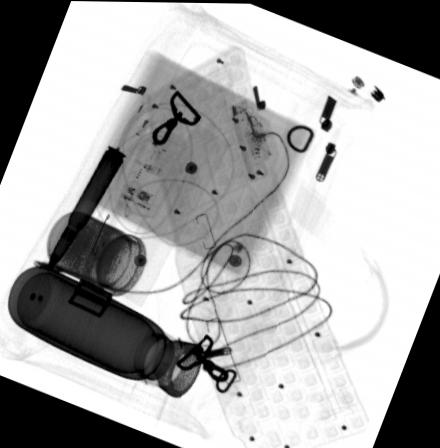Bullet: (44, 144, 126, 272)
